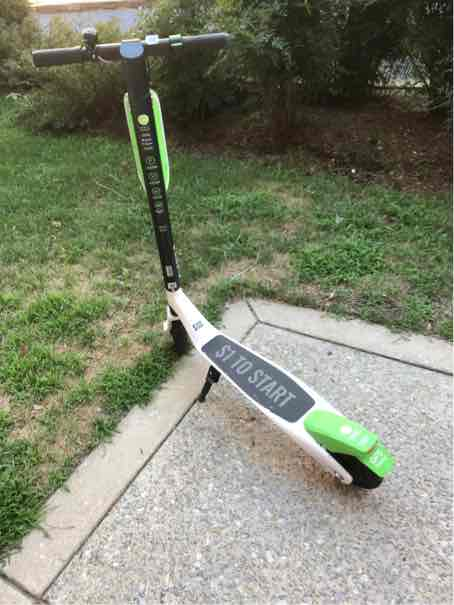scooter: (41, 28, 401, 500)
